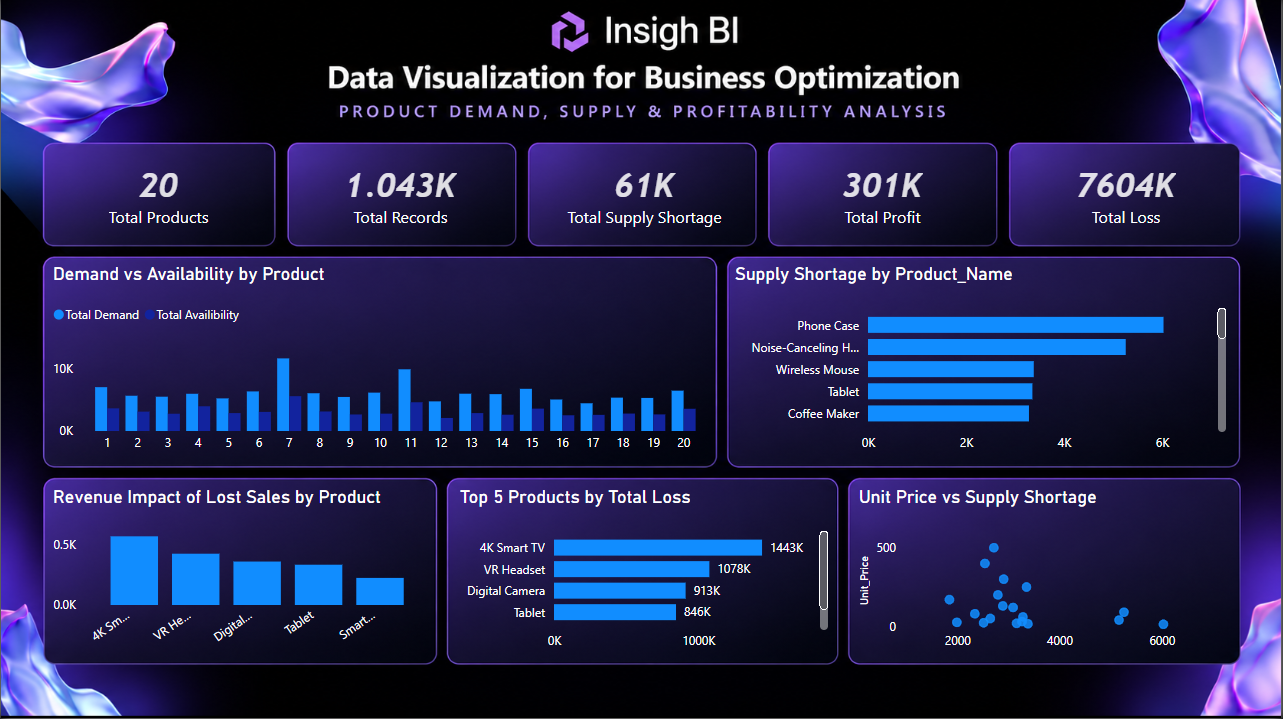

The page's visual inventory and layout, read from the dashboard file:
{"tool":"powerbi","page":{"name":"Product Demand & Profitability","canvas":[1280,720],"ordinal":2},"visuals":[{"type":"cardVisual","fields":{"Data":["Count(DA Table.Product_ID)"]},"box":[37,146,241,104],"z":0},{"type":"cardVisual","fields":{"Data":["CountNonNull(DA Table.Product_ID)"]},"box":[285,146,229,104],"z":1000},{"type":"cardVisual","fields":{"Data":["Measures Table 1.Supply Shortage"]},"box":[533,146,221,104],"z":2000},{"type":"cardVisual","fields":{"Data":["Measures Table 2.Total Profit"]},"box":[766,146,231,104],"z":3000},{"type":"cardVisual","fields":{"Data":["Measures Table 2.Total Loss"]},"box":[1011,146,228,104],"z":4000},{"type":"clusteredColumnChart","title":"Demand vs Availability by Product","fields":{"Category":["DA Table.Product_ID"],"Y":["Measures Table 1.Total Demand","Measures Table 1.Total Availibility"]},"box":[47,265,665,198],"z":5000},{"type":"barChart","fields":{"Category":["DA Table.Product_Name"],"Y":["Measures Table 1.Supply Shortage"]},"box":[729,265,501,198],"z":6000},{"type":"columnChart","title":"Revenue Impact of Lost Sales by Product","fields":{"Category":["DA Table.Product_Name"],"Y":["Measures Table 2.Average Daily Loss"]},"box":[47,488,387,170],"z":7000},{"type":"barChart","title":"Top 5 Products by Total Loss","fields":{"Category":["DA Table.Product_Name"],"Y":["Measures Table 2.Total Loss"]},"box":[454,488,378,173],"z":8000},{"type":"scatterChart","title":"Unit Price vs Supply Shortage","fields":{"X":["Measures Table 1.Supply Shortage"],"Y":["DA Table.Unit_Price"]},"box":[853,488,377,173],"z":9000}]}

Visuals, with their boxes in screenshot pixels (x1, y1, x2, y2), scaled from the page's 1280x720 canvas onto the 1283x719 screenshot:
cardVisual - Count(DA Table.Product_ID): [37, 146, 279, 250]
cardVisual - CountNonNull(DA Table.Product_ID): [286, 146, 515, 250]
cardVisual - Measures Table 1.Supply Shortage: [534, 146, 756, 250]
cardVisual - Measures Table 2.Total Profit: [768, 146, 999, 250]
cardVisual - Measures Table 2.Total Loss: [1013, 146, 1242, 250]
"Demand vs Availability by Product" clusteredColumnChart: [47, 265, 714, 462]
barChart - DA Table.Product_Name x Measures Table 1.Supply Shortage: [731, 265, 1233, 462]
"Revenue Impact of Lost Sales by Product" columnChart: [47, 487, 435, 657]
"Top 5 Products by Total Loss" barChart: [455, 487, 834, 660]
"Unit Price vs Supply Shortage" scatterChart: [855, 487, 1233, 660]
